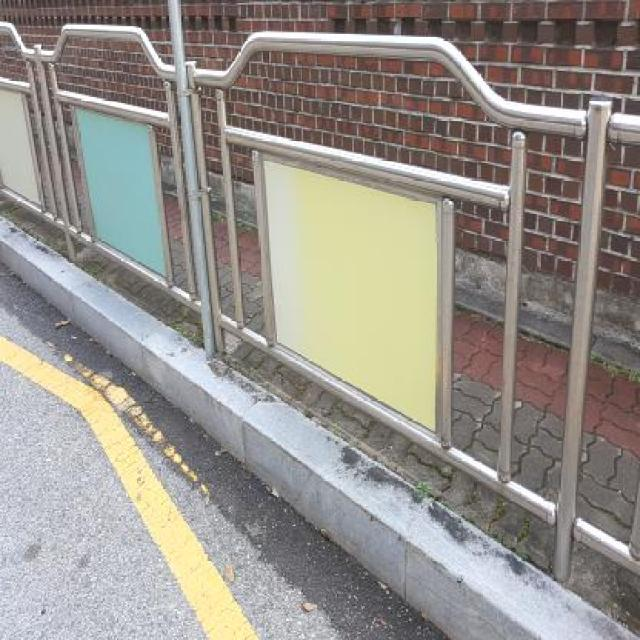fence: (172, 5, 636, 573), (2, 1, 257, 344)
